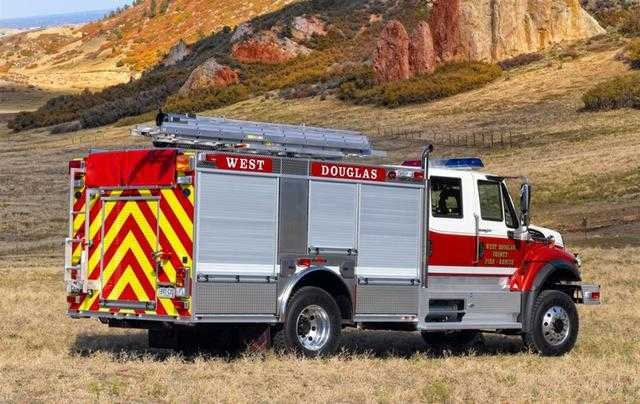Fire Truck: (54, 108, 604, 380)
